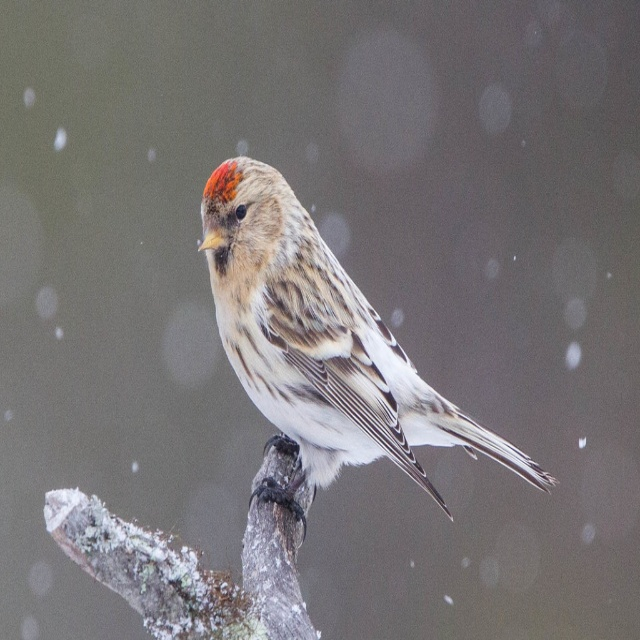Sparrow: (199, 155, 554, 540)
